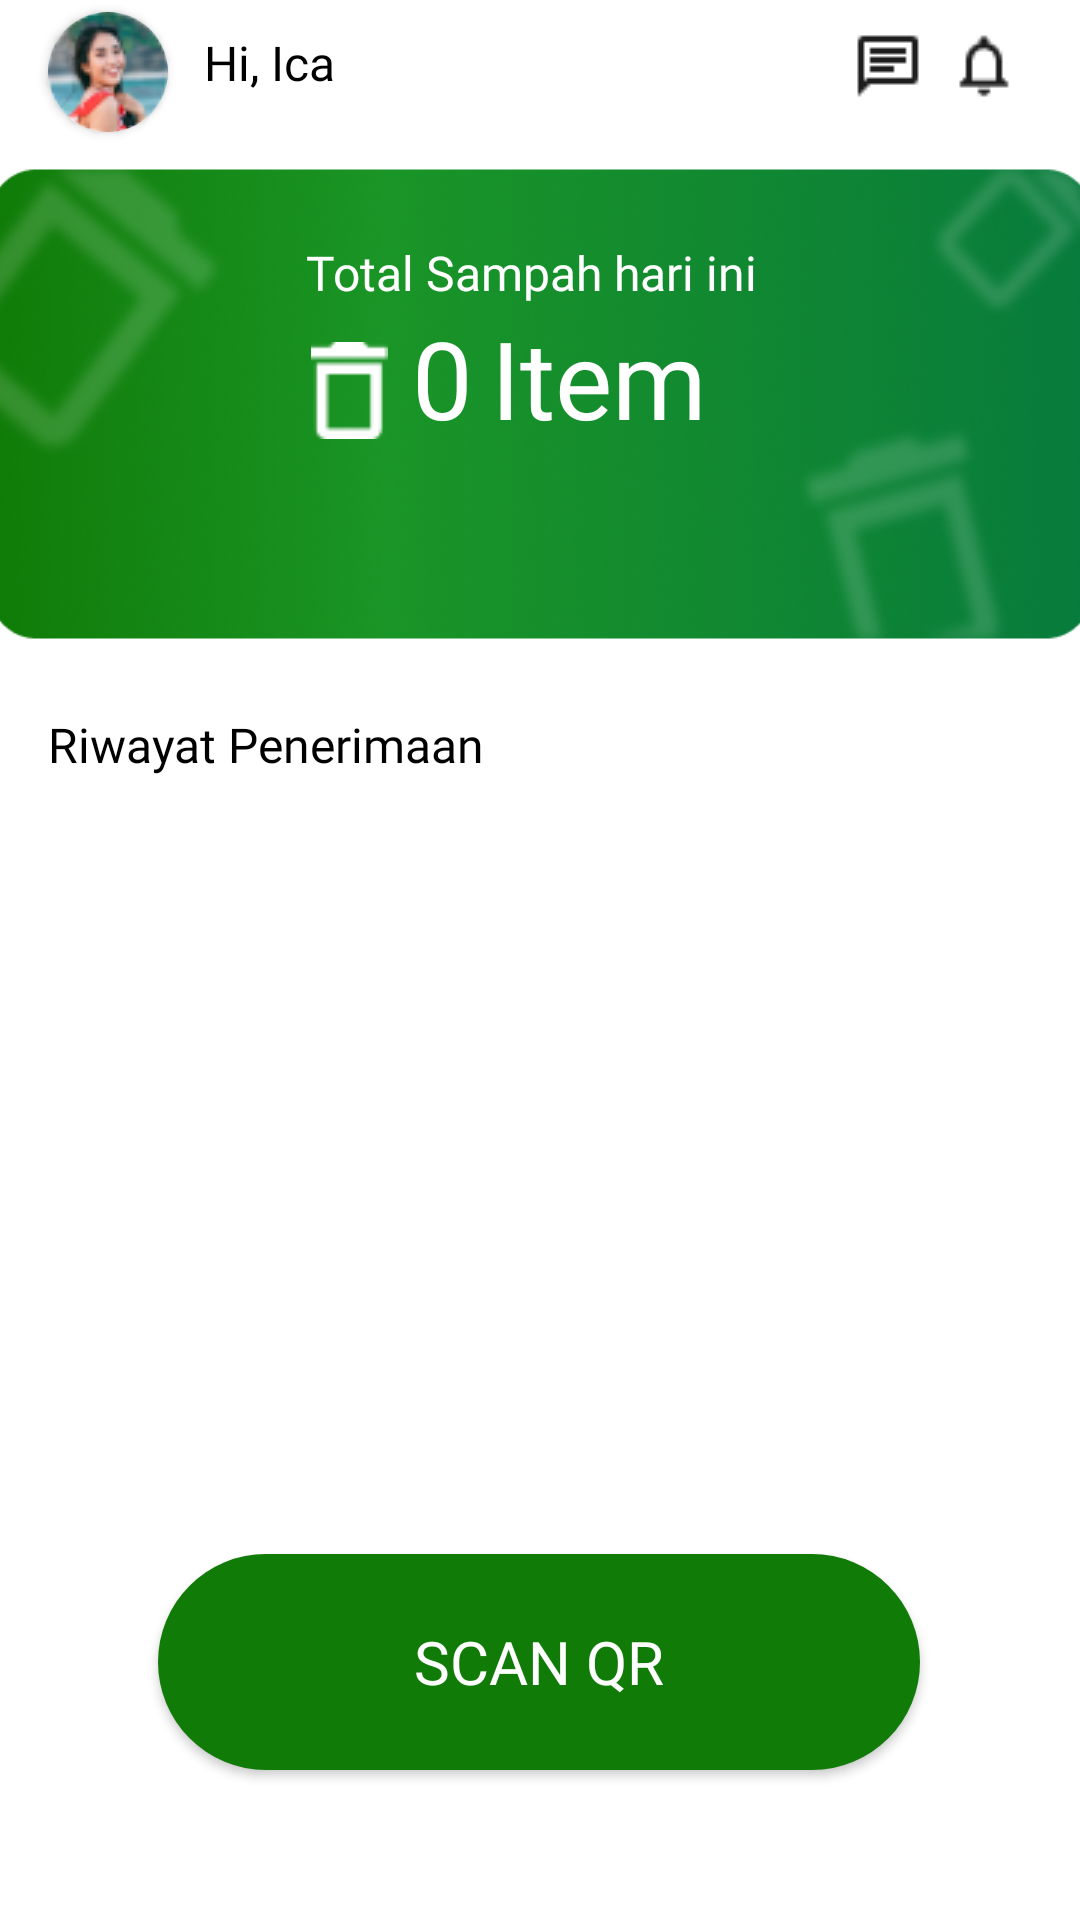

Screen size 1080*1920. Icon name, then its box in pixels as (x1, y1, x2, y2):
chat: (857, 35, 919, 97)
notifications: (959, 35, 1009, 97)
profil cewe: (48, 12, 168, 132)
